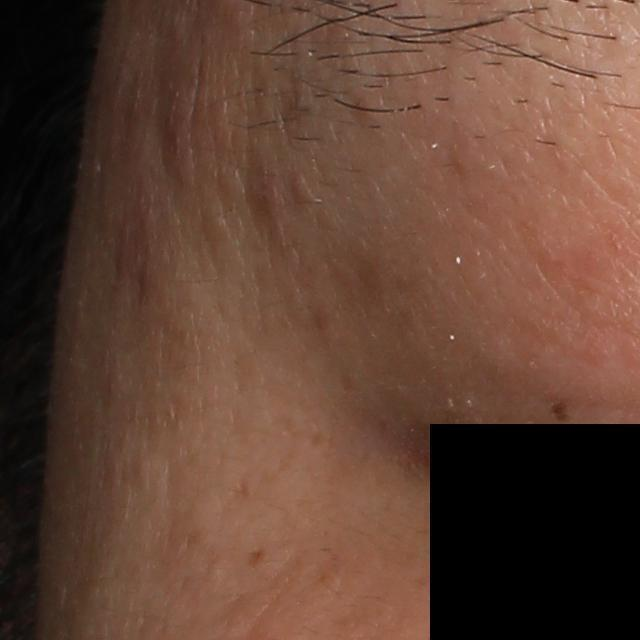nevus: (549, 398, 573, 427)
